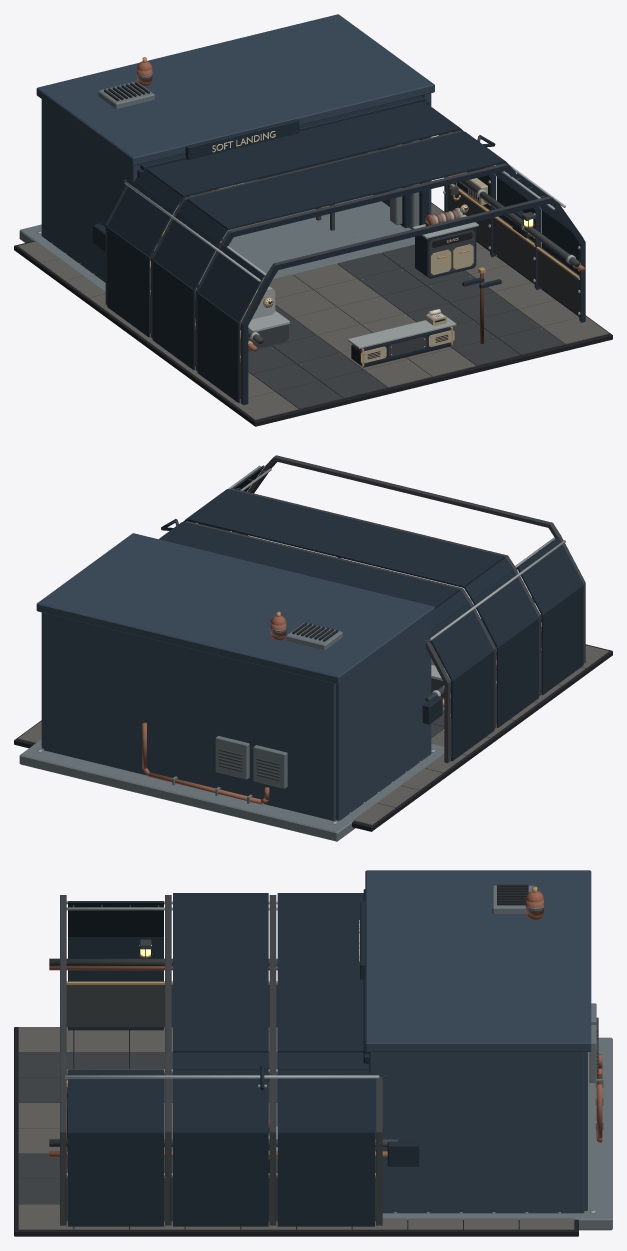
File: listening-post-hush-garage.glb
3 renders of one model, top to bottom at view 1: azimuth 30°, elevation 25°; view 2: azimuth 150°, elevation 25°; view 3: azimuth 270°, elevation 25°, orthographic. The views are drawn at different scales.
Visible parts, largest first — view 1: listening-post-hush-garage; view 2: listening-post-hush-garage; view 3: listening-post-hush-garage.
Boxes of the visible parts, x1=… form: listening-post-hush-garage: x1=14, y1=14, x2=612, y2=426; listening-post-hush-garage: x1=14, y1=455, x2=612, y2=841; listening-post-hush-garage: x1=14, y1=870, x2=612, y2=1236.
Size of the model in its own units: 17.08 by 8.34 by 21.15.
20 materials, 17 textured.
